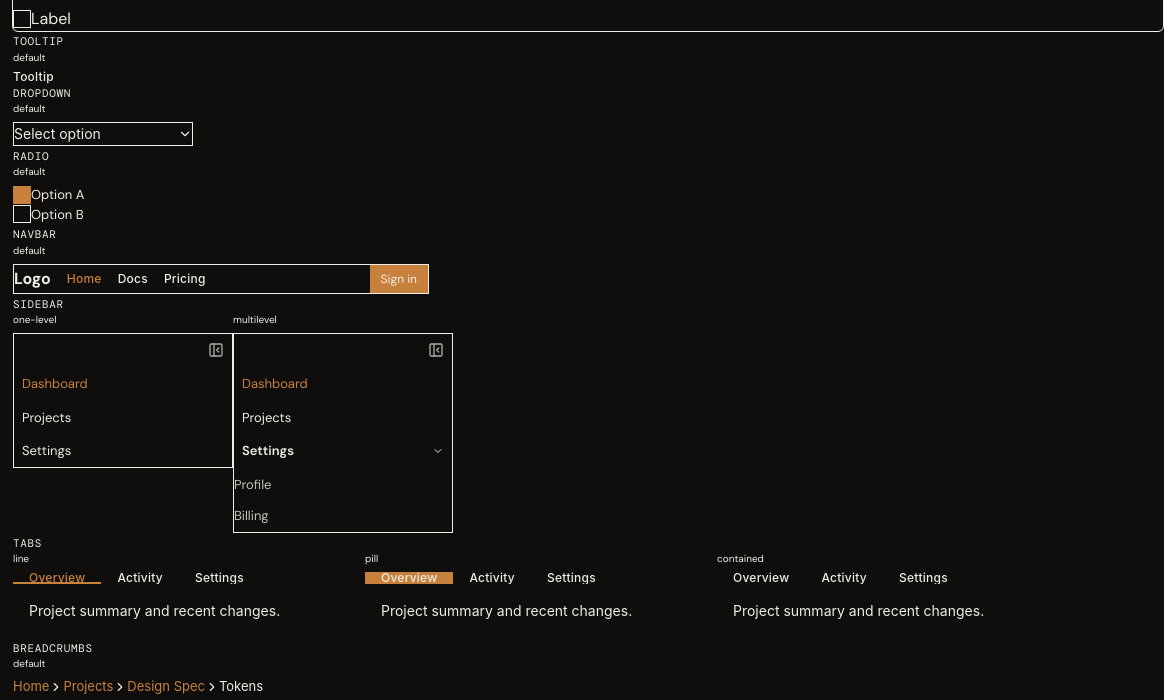
Scenario: Sidebar preview › is an icon rail below md with labels kept for screen readers, expanded at md+
(page scrolled)
Click the 1st button with test id "sidebar-collapse-toggle": (216, 350) [200,334,232,366]
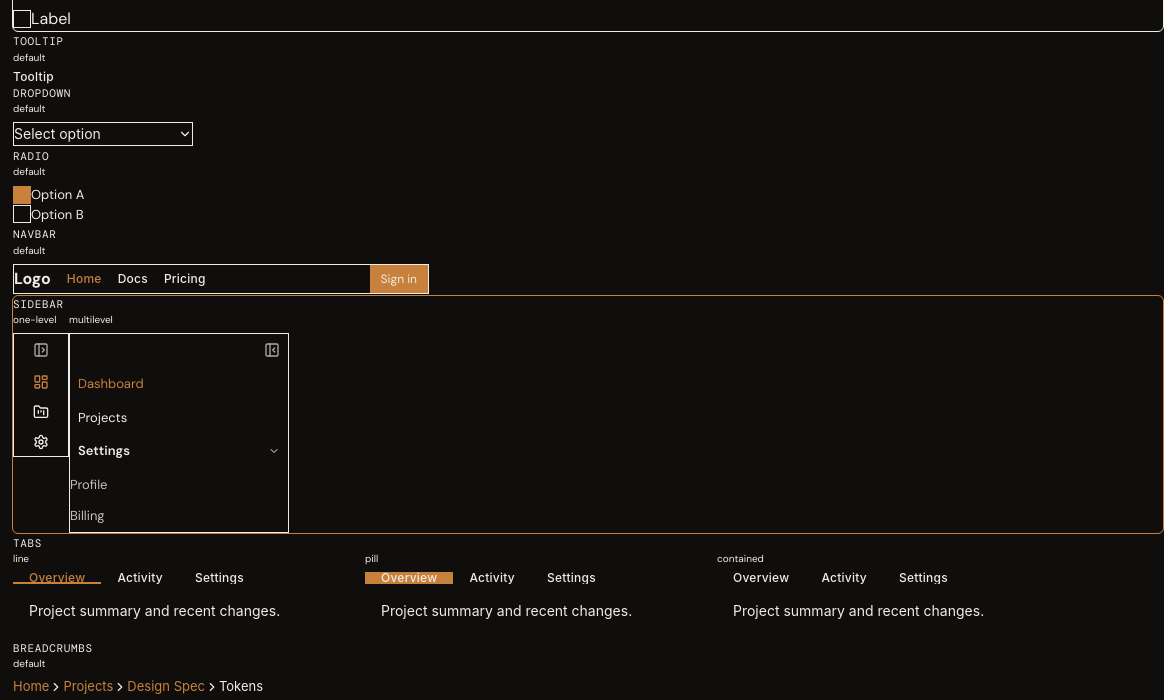
Now the button with test id "sidebar-collapse-toggle" is collapsed, box [25,334,57,366]
